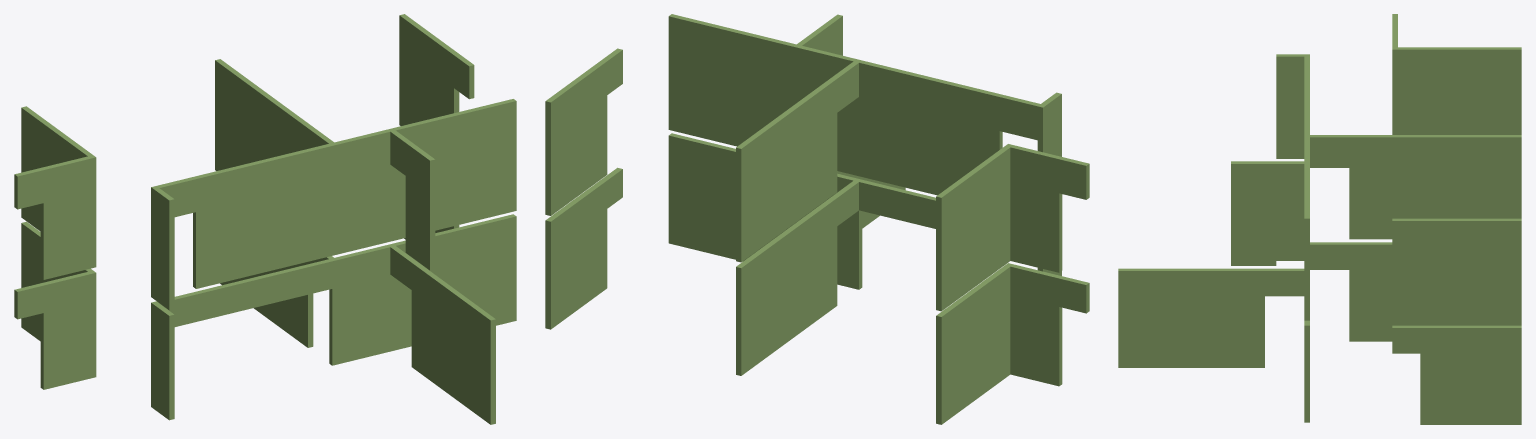
Rendered from inside_walls.obj.
The picture shows the model from 3 angles, left to right: view 1: azimuth 30°, elevation 25°; view 2: azimuth 150°, elevation 25°; view 3: azimuth 270°, elevation 25°; orthographic projection. The views are drawn at different scales.
Visible parts, largest first — view 1: inside_walls_MH1_OBJ_04; view 2: inside_walls_MH1_OBJ_04; view 3: inside_walls_MH1_OBJ_04.
Boxes of the visible parts, bbox=[...] form: inside_walls_MH1_OBJ_04: bbox=[14, 14, 516, 424]; inside_walls_MH1_OBJ_04: bbox=[545, 14, 1089, 424]; inside_walls_MH1_OBJ_04: bbox=[1118, 14, 1521, 424].
Size of the model in its own units: 522 by 240 by 430.
